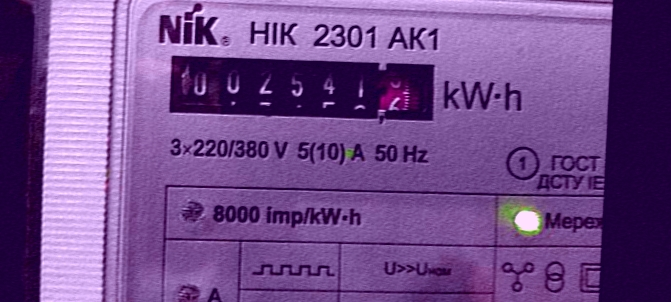0: (221, 63, 242, 97), (190, 67, 209, 97)
1: (349, 66, 367, 100)
2: (252, 63, 275, 98)
4: (318, 66, 337, 97)
5: (286, 67, 304, 100)
6: (384, 92, 401, 113)
screen: (152, 37, 456, 141)
